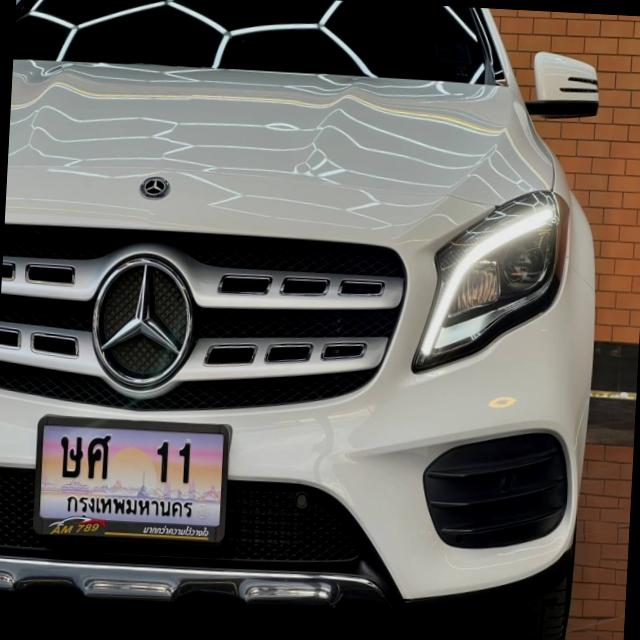license_plate: (32, 410, 238, 549)
